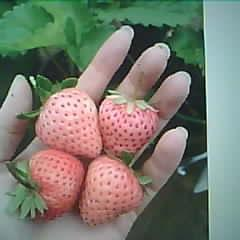straw-ripe: (34, 89, 100, 155), (81, 157, 141, 224), (29, 149, 85, 219), (100, 97, 158, 156)
